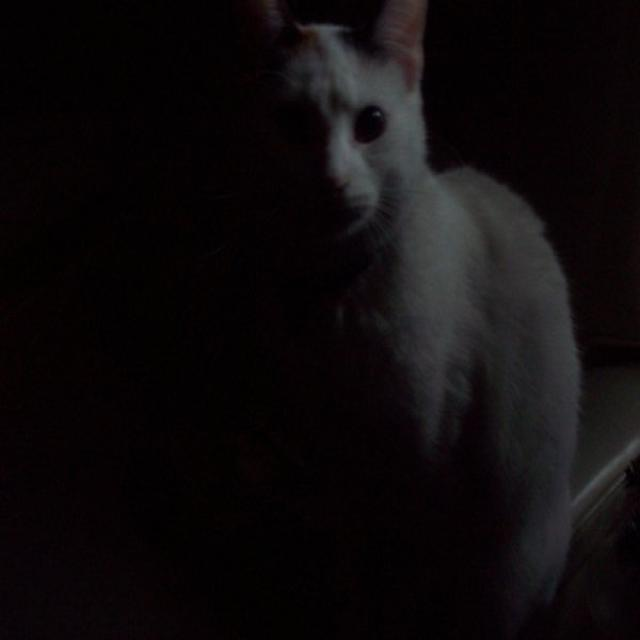Cat: (219, 2, 619, 627)
